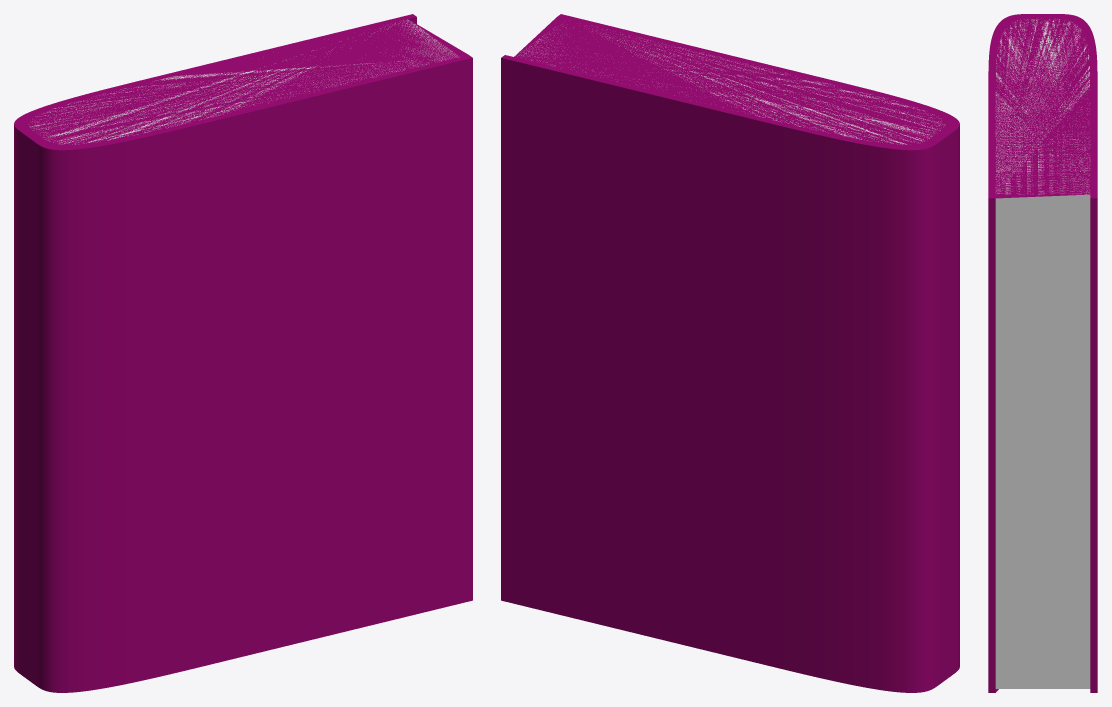
The model's file is book_3.fbx.
3 views of the same model, side by side, from view 1: azimuth 30°, elevation 25°; view 2: azimuth 150°, elevation 25°; view 3: azimuth 270°, elevation 25° (orthographic). The views are drawn at different scales.
Visible parts, largest first — view 1: Case, Page; view 2: Case, Page; view 3: Page, Case.
Part boxes in pixels (x1,y1,x2,y2): Case: [14, 14, 472, 692]; Page: [29, 19, 458, 144]; Case: [501, 14, 959, 692]; Page: [517, 26, 945, 144]; Page: [995, 18, 1090, 688]; Case: [988, 14, 1097, 692].
Size of the model in its own units: 80 by 100 by 20.
